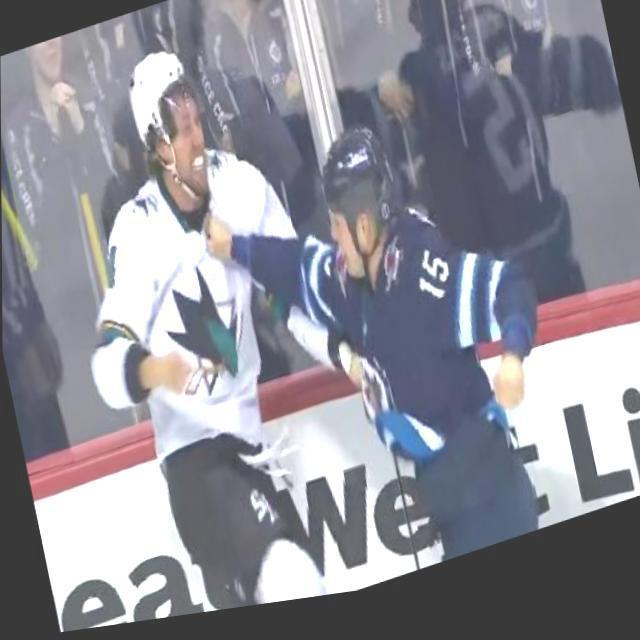fight: (63, 0, 567, 633)
